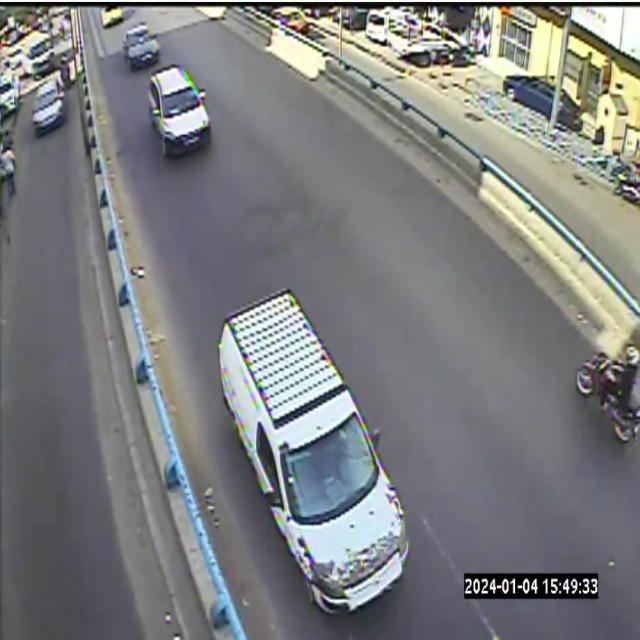car: (218, 289, 408, 612), (147, 66, 211, 156), (123, 22, 160, 70), (101, 5, 123, 28)
